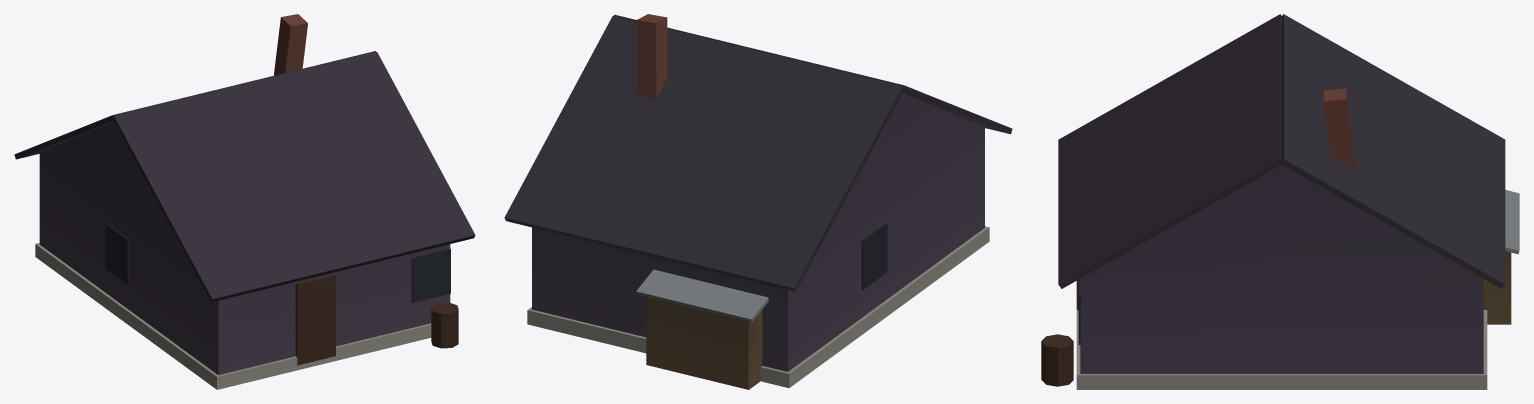
Rendered from shell_derelict_lean_lod1.glb.
3 renders of one model, left to right at view 1: azimuth 30°, elevation 25°; view 2: azimuth 150°, elevation 25°; view 3: azimuth 270°, elevation 25°, orthographic. The views are drawn at different scales.
Visible parts, largest first — view 1: shell_derelict_lean_lod1; view 2: shell_derelict_lean_lod1; view 3: shell_derelict_lean_lod1.
Boxes of the visible parts, bbox=[...] form: shell_derelict_lean_lod1: bbox=[14, 14, 475, 389]; shell_derelict_lean_lod1: bbox=[504, 14, 1012, 389]; shell_derelict_lean_lod1: bbox=[1041, 14, 1519, 389].
Bounding box in the file's own units: 6.8 × 5.95 × 9.48.
